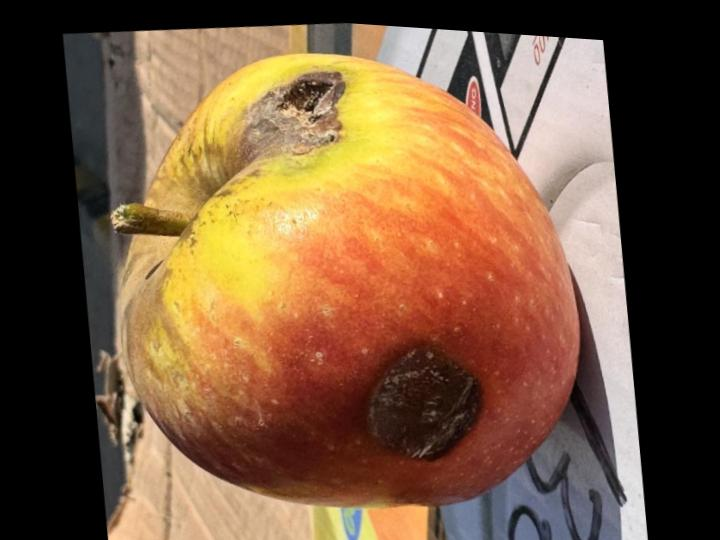apple: (111, 54, 579, 507)
rot_mold_decay: (368, 348, 481, 459), (246, 71, 345, 152)
